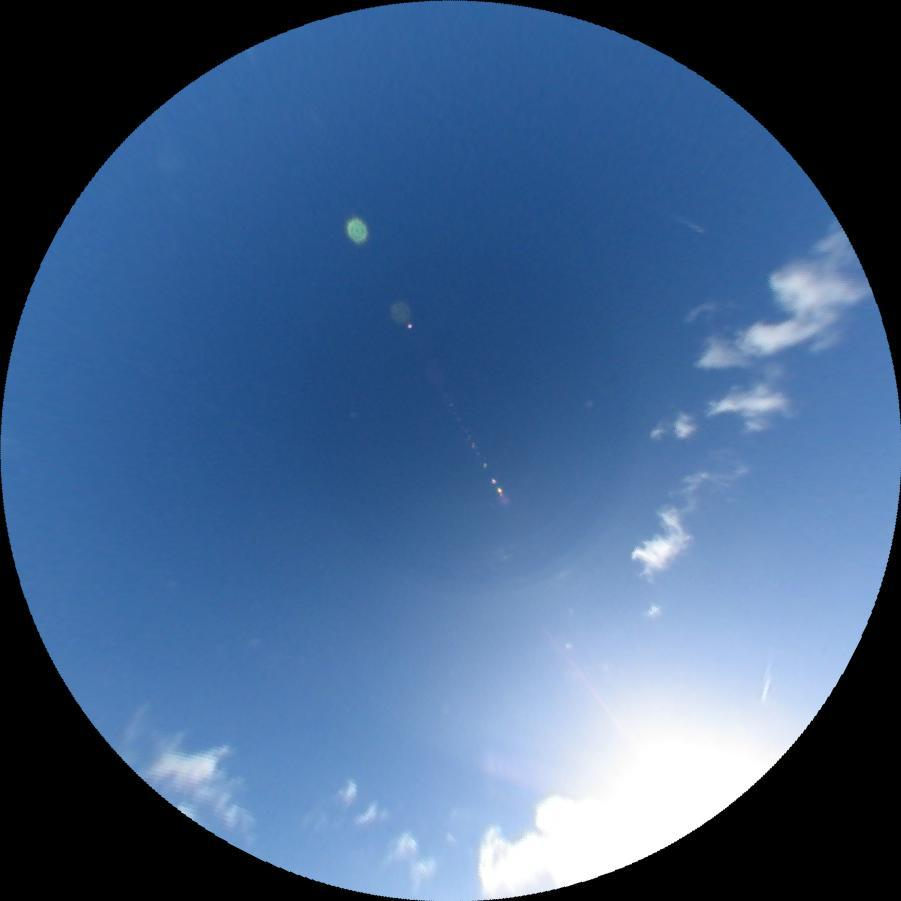contrail young: (645, 197, 707, 236), (760, 647, 776, 702)
parasite: (542, 626, 644, 756)
sun: (602, 696, 769, 859)
